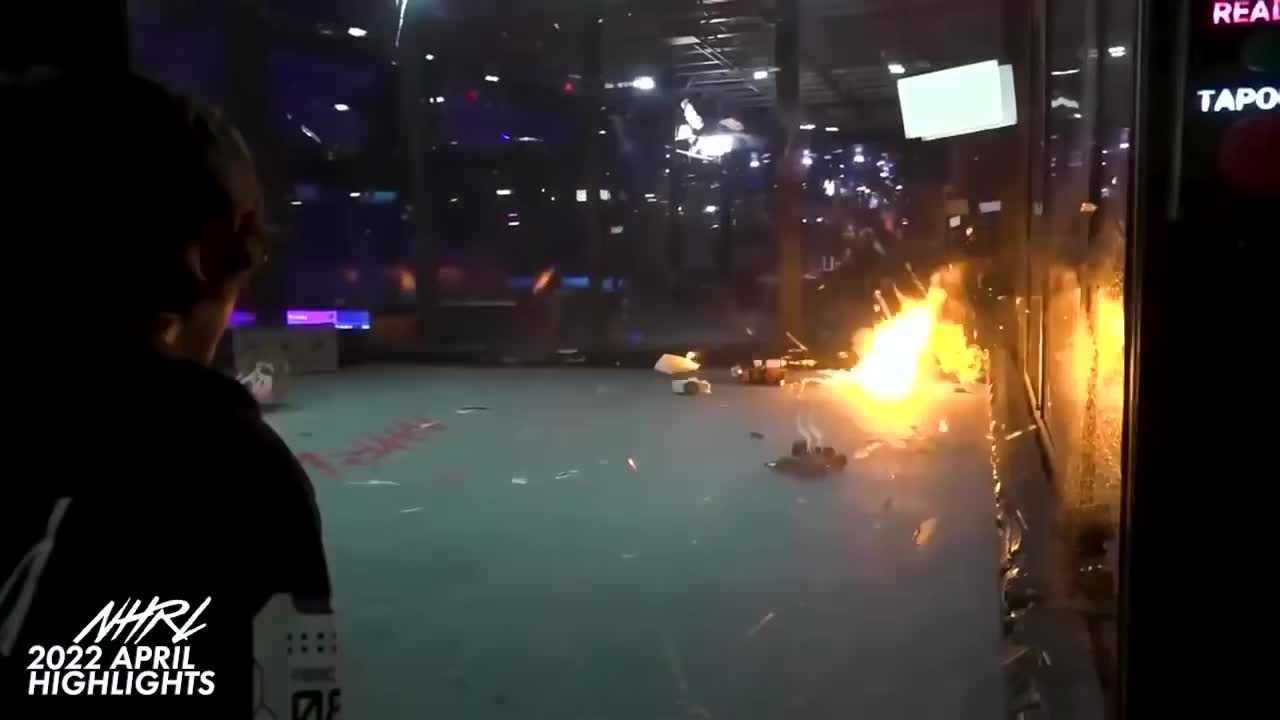combatbot: (233, 351, 294, 410), (767, 437, 846, 478), (656, 351, 713, 397), (736, 358, 783, 387)
housebot: (232, 322, 338, 373)
